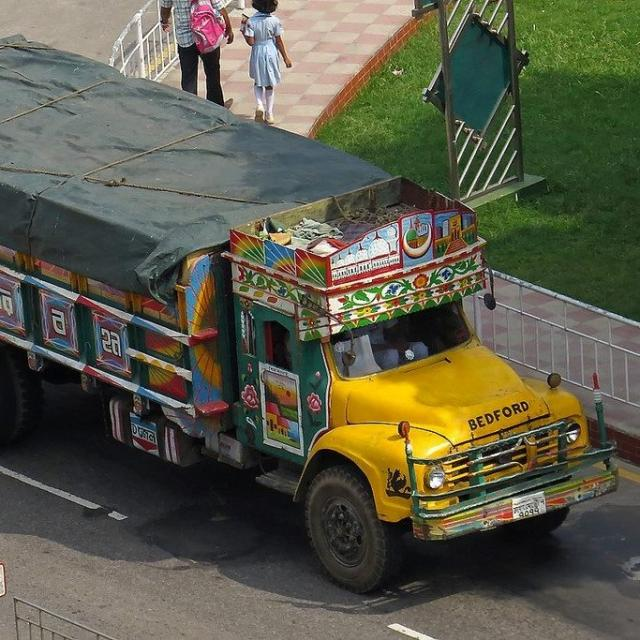truck: (0, 28, 626, 592)
